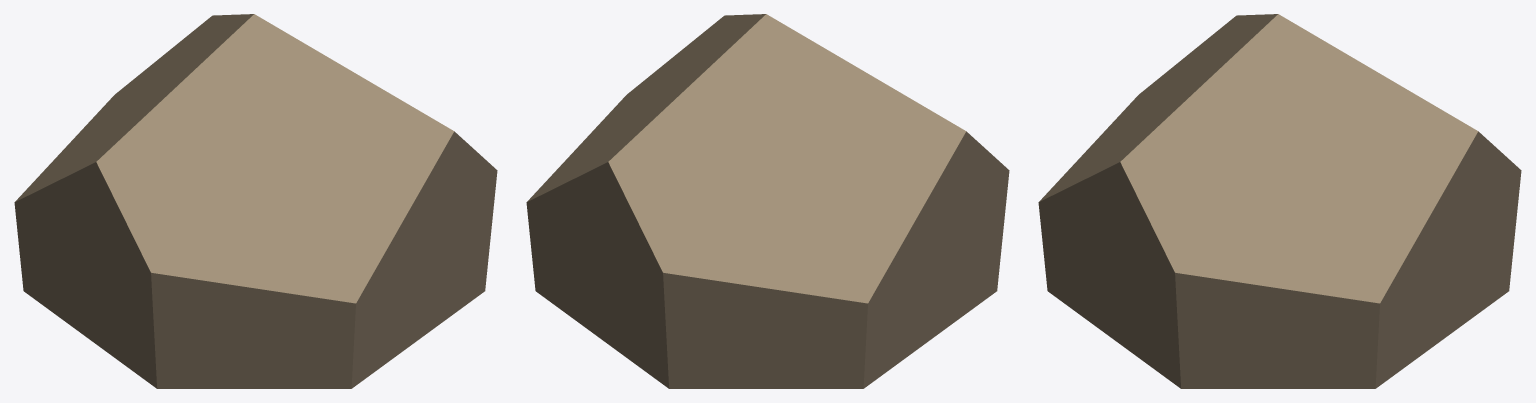
Rendered from ventifact.glb.
The picture shows the model from 3 angles, left to right: view 1: azimuth 30°, elevation 25°; view 2: azimuth 150°, elevation 25°; view 3: azimuth 270°, elevation 25°; orthographic projection.
Visible parts, largest first — view 1: Three dominant wind abrasion planes; view 2: Three dominant wind abrasion planes; view 3: Three dominant wind abrasion planes.
Boxes of the visible parts, x1,y1,x2,y2 form: Three dominant wind abrasion planes: (14, 14, 497, 388); Three dominant wind abrasion planes: (526, 14, 1009, 388); Three dominant wind abrasion planes: (1038, 14, 1521, 388).
Bounding box in the file's own units: 0.8133 × 0.6 × 0.9182.
